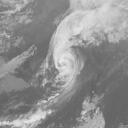cyclone: (45, 36, 83, 82)
